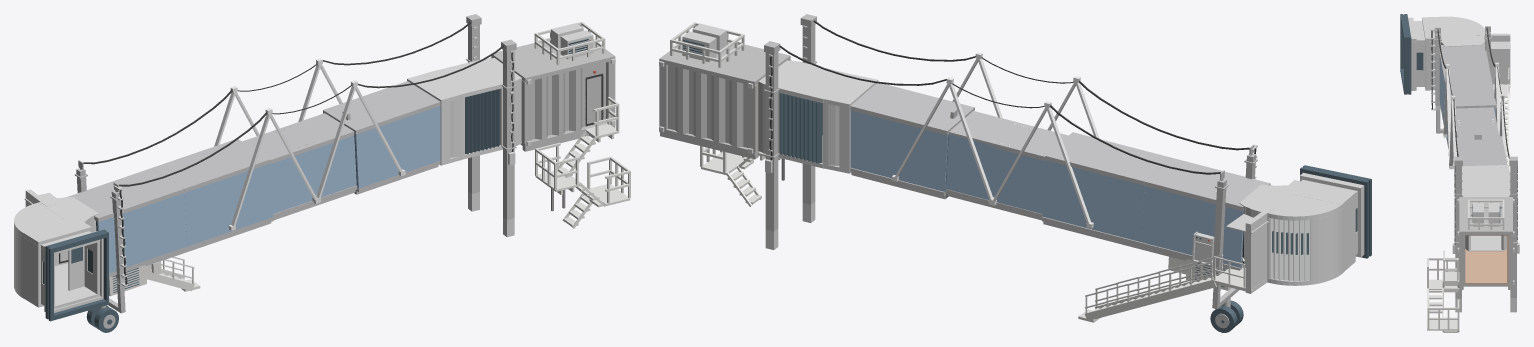
The model's file is Packed.fbx.
3 views of the same model, side by side, from view 1: azimuth 30°, elevation 25°; view 2: azimuth 150°, elevation 25°; view 3: azimuth 270°, elevation 25° (orthographic). The views are drawn at different scales.
Visible parts, largest first — view 1: Part340, Part284, Part348, Part322, Part332, Part276, Part314, Part349, Part776, Part684, Part537, Part236 (+16 smaller); view 2: Part323, Part267, Part358, Part305, Part332, Part276, Part314, Part349, Part776, Part636, Part537, Part609 (+17 smaller); view 3: Part332, Part773, Part314, Part776, Part276, Part349, Part537, Part167, Part636, Part684, Part236, Part237 (+40 smaller).
Part boxes in pixels (x1=…): Part340: x1=184, y1=163, x2=273, y2=246; Part284: x1=355, y1=106, x2=440, y2=188; Part348: x1=271, y1=135, x2=356, y2=213; Part322: x1=97, y1=193, x2=187, y2=273; Part332: x1=151, y1=139, x2=270, y2=192; Part276: x1=323, y1=81, x2=440, y2=134; Part314: x1=66, y1=168, x2=184, y2=222; Part349: x1=242, y1=113, x2=354, y2=163; Part776: x1=491, y1=40, x2=615, y2=82; Part684: x1=503, y1=50, x2=514, y2=219; Part537: x1=429, y1=60, x2=502, y2=97; Part236: x1=22, y1=216, x2=91, y2=245; Part323: x1=1042, y1=160, x2=1144, y2=242; Part267: x1=850, y1=110, x2=948, y2=191; Part358: x1=946, y1=134, x2=1045, y2=213; Part305: x1=1141, y1=186, x2=1243, y2=267; Part332: x1=1045, y1=132, x2=1171, y2=185; Part276: x1=850, y1=83, x2=974, y2=135; Part314: x1=1144, y1=158, x2=1270, y2=211; Part349: x1=949, y1=111, x2=1068, y2=160; Part776: x1=659, y1=42, x2=790, y2=85; Part636: x1=765, y1=52, x2=778, y2=231; Part537: x1=778, y1=62, x2=854, y2=103; Part609: x1=668, y1=65, x2=757, y2=147; Part332: x1=1444, y1=74, x2=1496, y2=109; Part773: x1=1465, y1=249, x2=1508, y2=284; Part314: x1=1439, y1=43, x2=1490, y2=77; Part776: x1=1459, y1=197, x2=1512, y2=234; Part276: x1=1456, y1=136, x2=1507, y2=166; Part349: x1=1455, y1=107, x2=1498, y2=137; Part537: x1=1462, y1=174, x2=1510, y2=193; Part167: x1=1476, y1=33, x2=1510, y2=84; Part636: x1=1510, y1=165, x2=1516, y2=297; Part684: x1=1455, y1=165, x2=1461, y2=298; Part236: x1=1422, y1=16, x2=1448, y2=41; Part237: x1=1425, y1=41, x2=1435, y2=87.
Bounding box in the file's own units: 10975 × 3382 × 2377.
